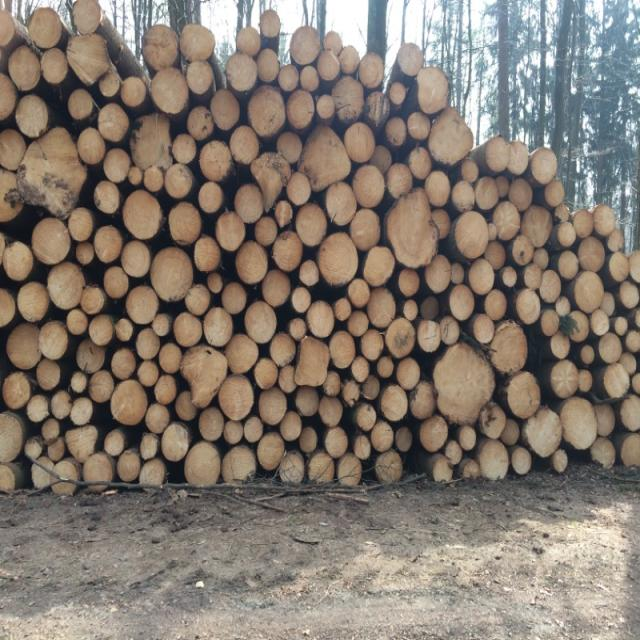wood-log: (24, 128, 90, 218), (435, 344, 497, 426), (387, 186, 448, 266), (299, 125, 350, 187), (430, 108, 476, 166), (184, 344, 228, 404), (151, 247, 194, 302), (316, 231, 359, 285), (130, 114, 172, 167), (66, 36, 109, 86), (488, 323, 527, 376), (122, 190, 163, 240), (559, 396, 596, 450), (31, 218, 72, 266), (248, 86, 285, 137), (293, 335, 329, 387), (150, 69, 190, 115), (48, 261, 85, 309), (524, 407, 560, 456), (218, 374, 256, 420), (484, 138, 529, 176), (6, 324, 42, 371), (506, 371, 541, 419), (184, 442, 222, 486), (110, 379, 147, 424), (251, 152, 288, 197), (454, 211, 489, 257), (26, 7, 64, 49), (15, 94, 50, 138), (417, 67, 451, 112), (198, 141, 234, 182), (168, 202, 203, 244), (296, 204, 330, 247), (237, 242, 270, 286), (9, 46, 42, 90), (332, 77, 364, 122), (352, 164, 386, 206), (326, 182, 358, 226), (226, 333, 260, 374), (244, 300, 277, 342), (17, 282, 50, 324), (178, 23, 214, 61), (363, 247, 396, 288), (478, 439, 510, 481), (226, 52, 261, 90), (126, 285, 160, 324), (224, 444, 257, 484), (572, 271, 604, 312), (385, 316, 416, 358), (0, 411, 26, 461), (0, 170, 24, 224), (289, 26, 323, 64), (273, 230, 305, 270), (367, 288, 399, 328), (344, 123, 376, 163), (66, 423, 100, 460), (234, 184, 267, 222), (3, 241, 34, 281), (217, 210, 248, 250), (521, 208, 552, 248), (230, 125, 260, 166), (350, 208, 380, 249), (98, 102, 130, 140), (203, 307, 234, 346), (40, 320, 70, 359), (210, 90, 239, 130), (288, 89, 316, 130), (78, 127, 108, 165), (262, 269, 292, 307), (306, 301, 336, 339), (379, 383, 408, 422), (258, 432, 286, 472), (492, 200, 520, 240), (122, 240, 153, 276), (260, 388, 290, 425), (0, 129, 27, 170), (161, 424, 190, 462), (410, 382, 438, 421), (422, 414, 450, 452), (42, 48, 70, 86), (551, 358, 579, 396), (94, 228, 124, 263), (76, 337, 106, 372), (514, 289, 543, 325), (448, 282, 475, 320), (424, 255, 451, 293), (66, 206, 94, 242), (193, 235, 221, 271), (2, 372, 30, 408), (166, 164, 194, 200), (329, 332, 356, 369), (84, 450, 115, 482), (358, 53, 386, 88), (104, 148, 132, 183), (467, 258, 494, 294), (531, 148, 558, 184), (173, 312, 201, 346), (604, 363, 631, 398), (386, 164, 412, 200), (269, 332, 297, 365), (578, 237, 606, 270), (376, 450, 403, 484), (276, 132, 303, 166), (199, 407, 225, 442), (278, 451, 304, 486), (285, 169, 311, 204), (0, 73, 18, 123), (183, 284, 211, 316), (222, 281, 249, 314), (103, 265, 129, 299), (426, 171, 452, 205), (67, 88, 93, 122), (482, 404, 506, 440), (90, 371, 116, 404), (135, 327, 161, 360), (95, 180, 121, 213), (187, 108, 213, 141), (199, 182, 225, 215), (564, 309, 590, 342), (36, 357, 61, 391), (309, 450, 334, 484), (338, 452, 362, 487), (400, 44, 426, 76), (254, 358, 280, 390), (317, 396, 343, 428), (112, 347, 138, 379), (589, 438, 615, 470), (89, 315, 115, 347), (317, 48, 342, 81), (118, 448, 142, 482), (147, 404, 173, 435), (122, 77, 148, 108), (509, 180, 534, 212), (598, 332, 623, 364), (258, 49, 282, 82), (477, 179, 500, 213), (81, 284, 107, 314), (620, 394, 640, 433), (69, 396, 94, 427), (325, 428, 350, 459), (396, 358, 420, 390), (254, 216, 278, 248), (160, 342, 184, 374), (540, 270, 563, 303), (362, 329, 385, 362), (473, 312, 496, 345), (141, 456, 167, 485), (172, 134, 197, 164), (512, 232, 534, 266), (296, 386, 320, 417), (156, 375, 180, 406), (484, 290, 507, 322), (409, 148, 432, 180), (236, 26, 262, 54), (174, 392, 198, 422), (347, 277, 371, 307), (453, 181, 477, 211), (51, 388, 73, 420), (417, 319, 439, 351), (54, 456, 80, 483), (408, 112, 433, 140), (279, 411, 302, 441), (371, 421, 393, 452), (98, 72, 122, 100), (243, 413, 266, 442), (27, 393, 50, 422), (484, 239, 507, 268), (550, 330, 572, 360), (595, 404, 615, 437), (0, 287, 16, 328), (387, 117, 408, 148), (137, 359, 161, 386), (66, 307, 89, 335), (617, 279, 640, 307), (610, 251, 630, 283), (399, 268, 421, 297), (354, 403, 376, 432), (433, 452, 454, 482), (558, 252, 580, 280), (347, 308, 369, 336), (623, 434, 640, 470), (104, 429, 126, 456), (522, 262, 543, 290), (291, 285, 312, 312), (143, 165, 164, 192), (502, 418, 522, 446), (513, 446, 533, 474), (544, 180, 564, 208), (442, 317, 461, 346), (342, 378, 361, 407), (278, 365, 297, 394), (591, 308, 610, 337), (277, 65, 299, 90), (262, 11, 282, 38), (360, 374, 380, 400), (321, 372, 341, 398), (300, 261, 320, 287), (152, 312, 173, 336), (300, 426, 318, 454), (540, 309, 558, 337), (30, 463, 51, 487), (350, 355, 370, 380), (41, 415, 60, 441), (558, 222, 577, 248), (394, 426, 411, 454), (115, 317, 134, 342), (445, 440, 464, 465), (378, 352, 396, 378), (317, 94, 335, 120), (0, 464, 16, 493), (75, 241, 94, 265), (140, 435, 158, 460), (52, 482, 80, 498), (47, 438, 66, 461), (302, 66, 320, 90), (353, 436, 371, 460), (226, 419, 244, 443), (460, 426, 476, 452), (26, 438, 44, 461), (580, 344, 598, 367), (552, 448, 568, 473), (388, 84, 406, 106), (71, 372, 89, 394), (205, 272, 223, 294), (626, 330, 640, 355), (501, 268, 518, 288), (630, 252, 640, 283), (615, 316, 630, 335)
